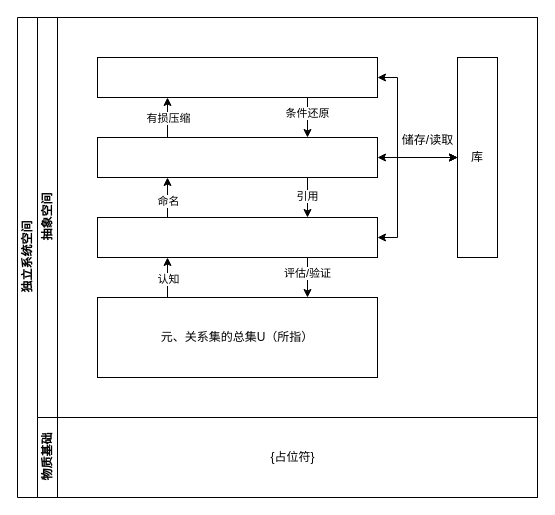
Some shapes in this 555 by 515 pixel diagram are drawn without their labels. Here are the shapes that lost their labels. From the top down, the centre of each, then its label:
At (237,77): "模型空间M（所指）".
At (237,157): "命名集N（能指） 要求：统一命名空间（stipulation，统一协议等）".
At (237,237): "总集U的信息集Ui（所指）".
